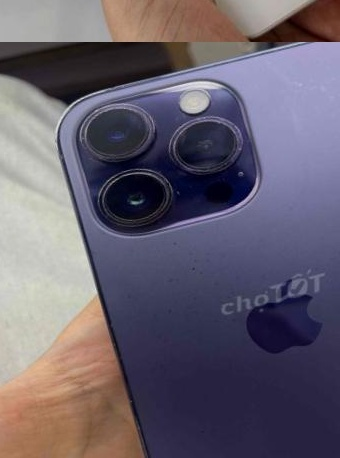scratch: (157, 101, 256, 186), (82, 157, 177, 236), (259, 42, 340, 134), (69, 94, 162, 172), (159, 227, 238, 318), (322, 242, 340, 306), (157, 299, 184, 329), (194, 417, 224, 439)
